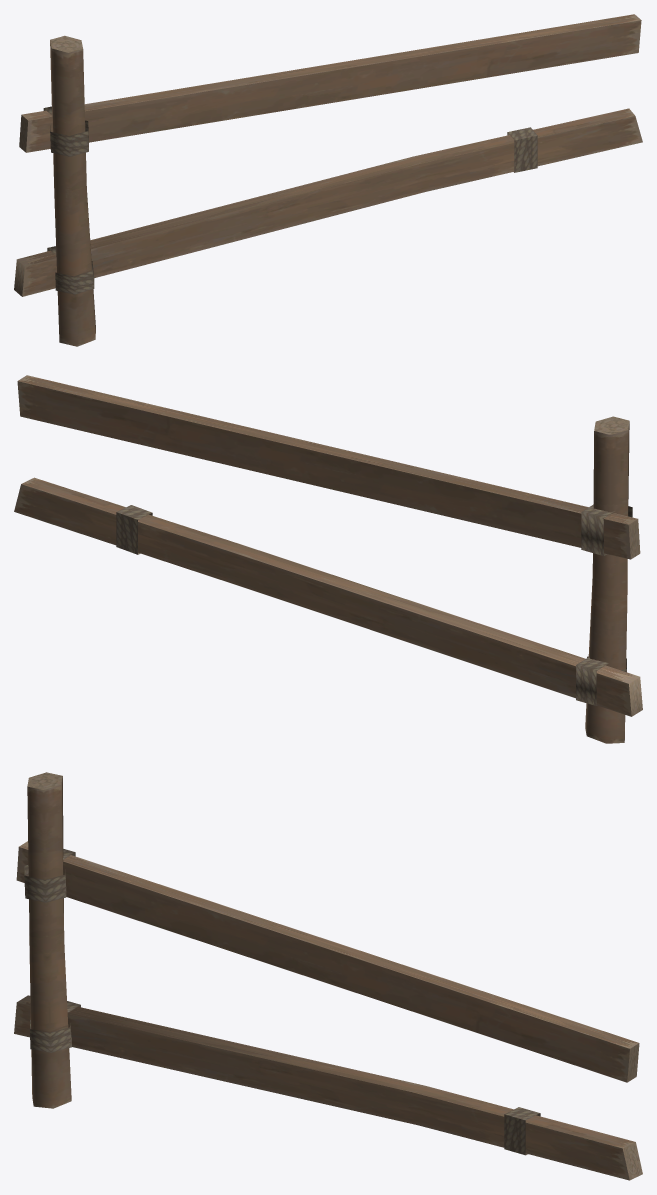
The model's file is Homeworld_Exterior_Common_Thing_Bawn_02_Vo.fbx.
3 renders of one model, top to bottom at view 1: azimuth 30°, elevation 25°; view 2: azimuth 150°, elevation 25°; view 3: azimuth 330°, elevation 25°, orthographic. The views are drawn at different scales.
Parts seen in each view (by area): view 1: Area_MdProps_Zhalan05_Vo; view 2: Area_MdProps_Zhalan05_Vo; view 3: Area_MdProps_Zhalan05_Vo.
Boxes of the visible parts, x1,y1,x2,y2 form: Area_MdProps_Zhalan05_Vo: (14, 14, 642, 346); Area_MdProps_Zhalan05_Vo: (14, 375, 642, 743); Area_MdProps_Zhalan05_Vo: (14, 772, 642, 1180).
Size of the model in its own units: 2.22 by 1.05 by 0.2156.
1 material, 1 textured.
